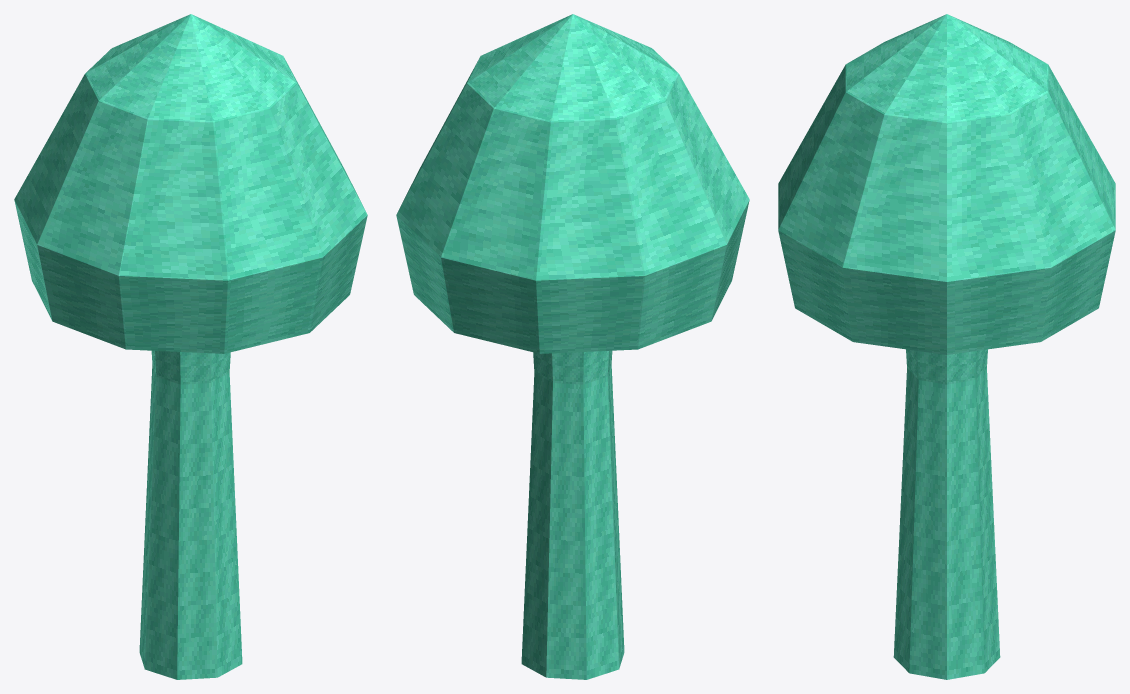
Rendered from cogumelo_brilhante.glb.
The picture shows the model from 3 angles, left to right: view 1: azimuth 30°, elevation 25°; view 2: azimuth 150°, elevation 25°; view 3: azimuth 270°, elevation 25°; orthographic projection.
Visible parts, largest first — view 1: cogumelo_brilhante; view 2: cogumelo_brilhante; view 3: cogumelo_brilhante.
Boxes of the visible parts, x1=… form: cogumelo_brilhante: x1=14, y1=14, x2=367, y2=679; cogumelo_brilhante: x1=396, y1=14, x2=749, y2=679; cogumelo_brilhante: x1=778, y1=14, x2=1115, y2=679.
Size of the model in its own units: 0.36 by 0.72 by 0.3424.
Materials: 1 (1 with a texture image).
